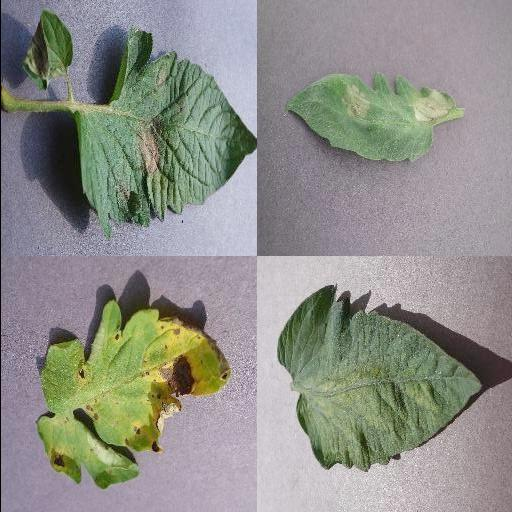Late Blight: (74, 26, 256, 242), (285, 73, 457, 163), (22, 9, 76, 93)
Septoria: (32, 299, 230, 489)
Spider Mites: (274, 285, 480, 473)
